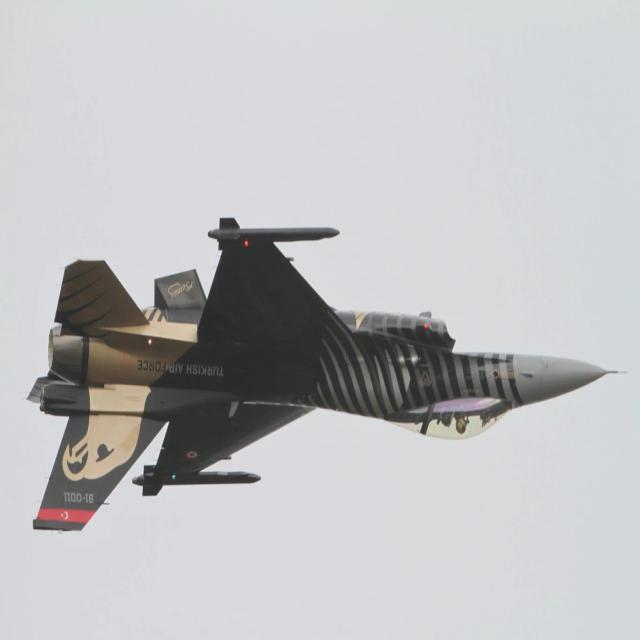MIL_Plane: (20, 216, 630, 534)
